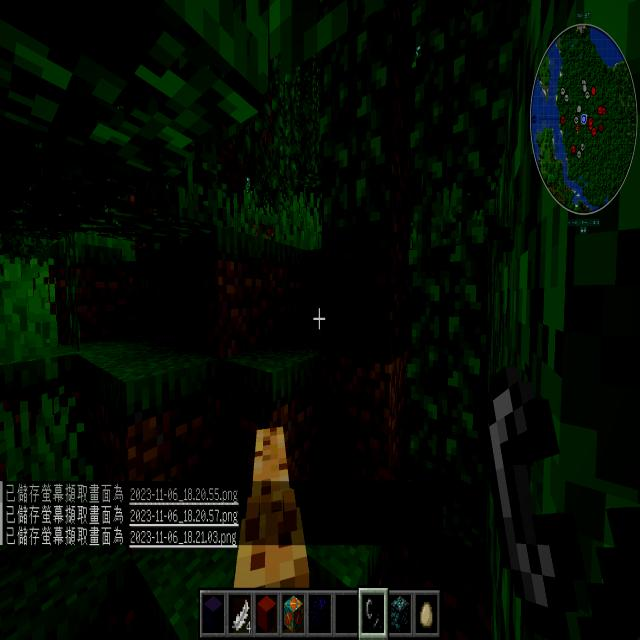Ocelot: (220, 418, 317, 594)
